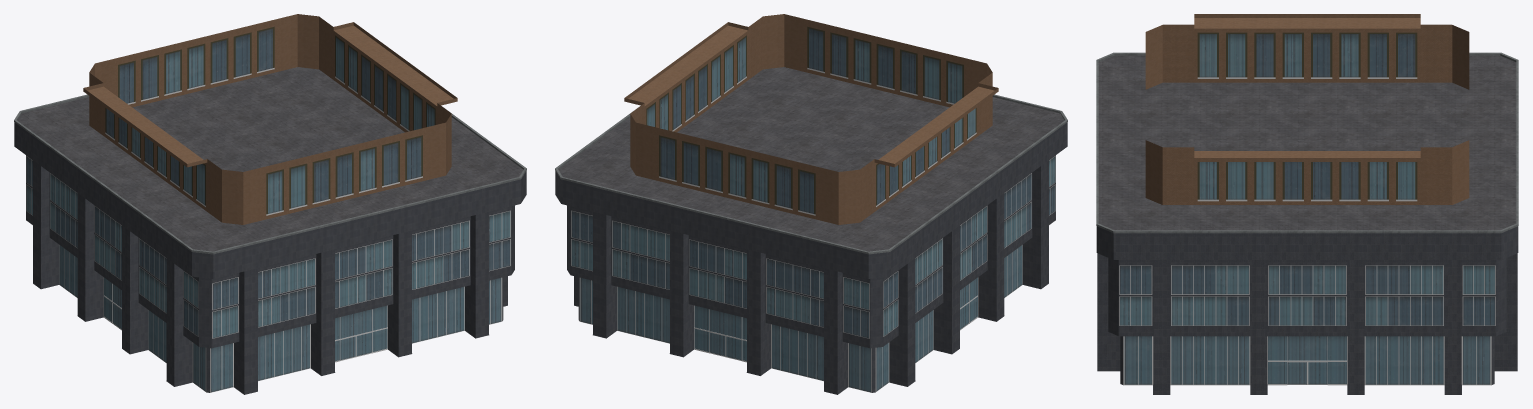
Rendered from jctBld50B_btm_low.fbx.
The picture shows the model from 3 angles, left to right: view 1: azimuth 30°, elevation 25°; view 2: azimuth 150°, elevation 25°; view 3: azimuth 270°, elevation 25°; orthographic projection. The views are drawn at different scales.
Parts seen in each view (by area): view 1: jctBld50B_btm_low; view 2: jctBld50B_btm_low; view 3: jctBld50B_btm_low.
Part boxes in pixels (x1,y1,x2,y2): jctBld50B_btm_low: (14,14,526,394); jctBld50B_btm_low: (555,14,1067,394); jctBld50B_btm_low: (1096,14,1518,394).
Bounding box in the file's own units: 4960 × 2850 × 4960.
